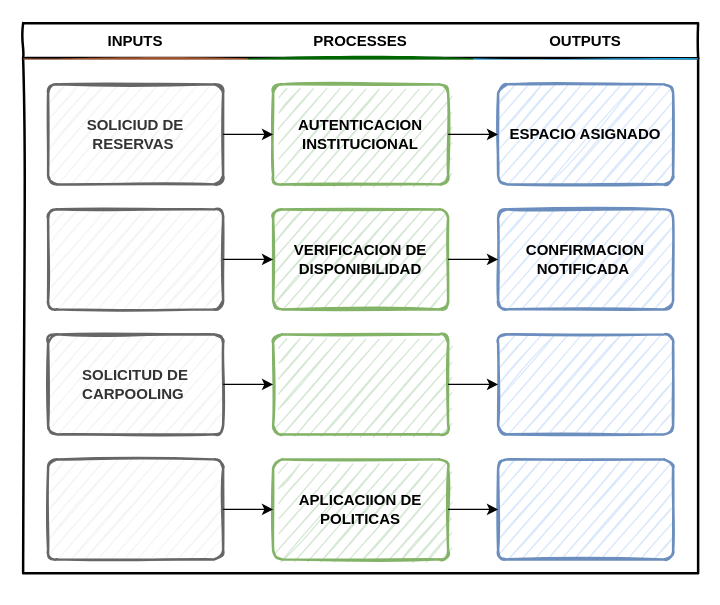
The diagram is 720 pixels wide and 605 high, and some of its shapes have lost their labels. The shapes that lost their labels are listed below. From the top down, each one's box as (x1, y1, x2, y2) in pixels, then its label:
(46, 208, 224, 310): DATOS DEL VEHICULO
(271, 332, 449, 435): MATCHING DE CARPOOLING
(496, 332, 674, 435): RUTA COMPARTIDA CONFIAMDA
(46, 458, 224, 560): CREDENCIALES @UDISTRITAL
(496, 458, 674, 560): ALERTA DE SATURACION
